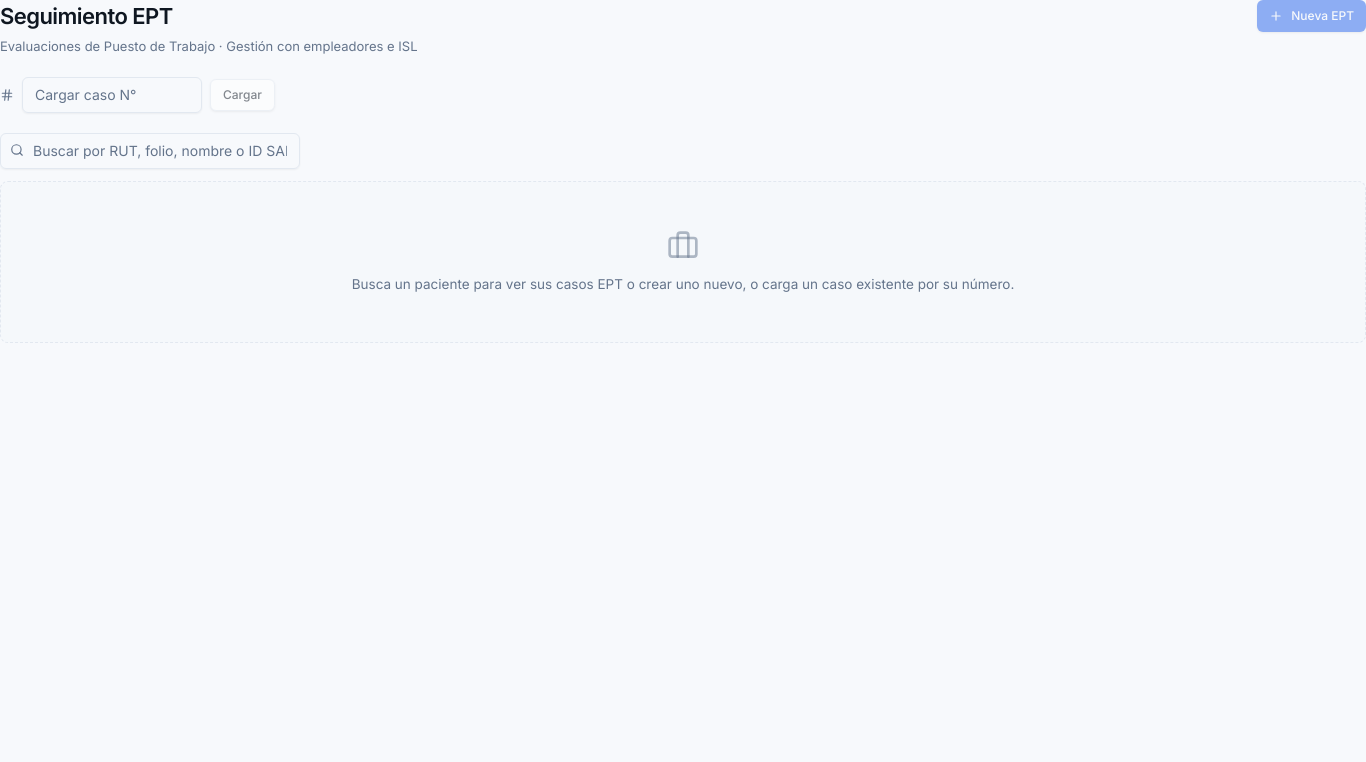
it: EptPage › Administrativo elimina un caso tras confirmar y el detalle se cierra
Type "55" into the number field with placeholder "Cargar caso N°" at (112, 94), box x1=22 y1=76 x2=202 y2=112
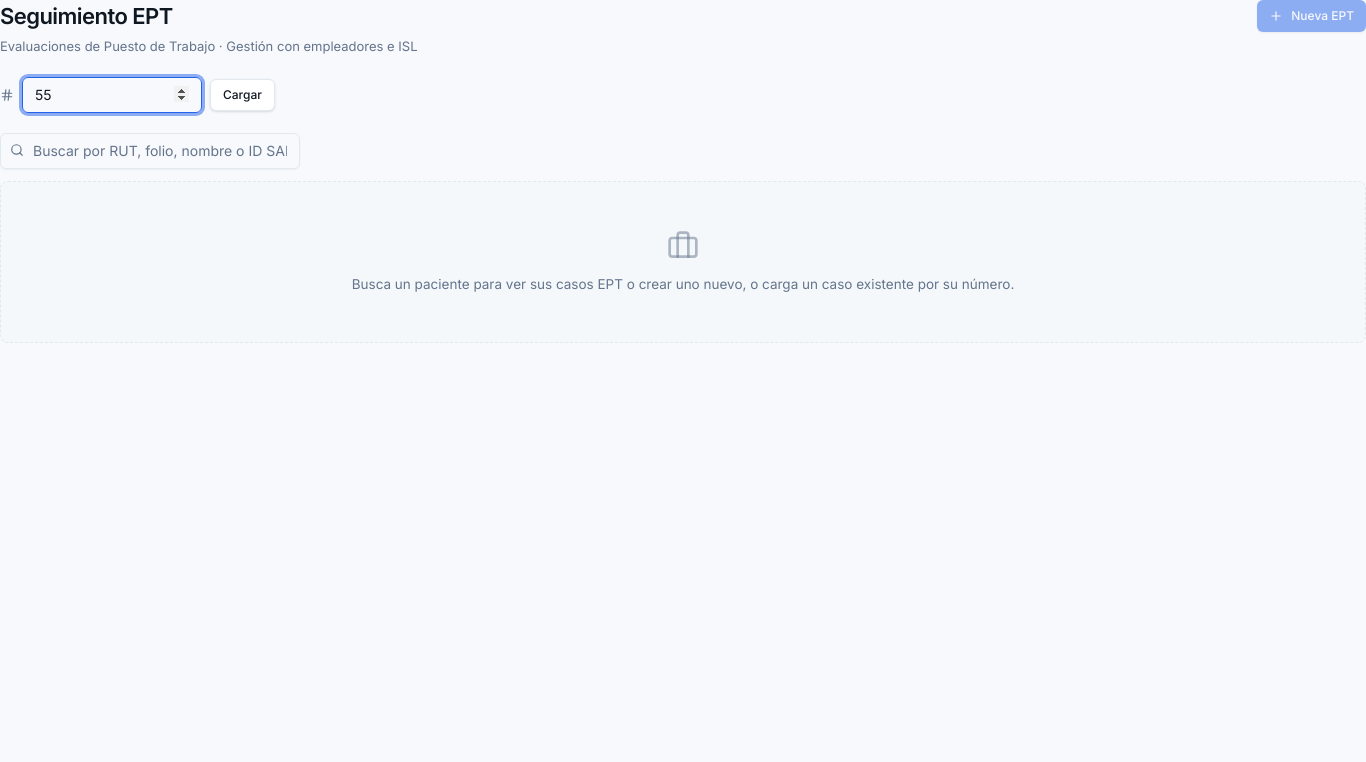
Click the button with test id "btn-cargar-caso" at (242, 94), box x1=210 y1=78 x2=275 y2=110
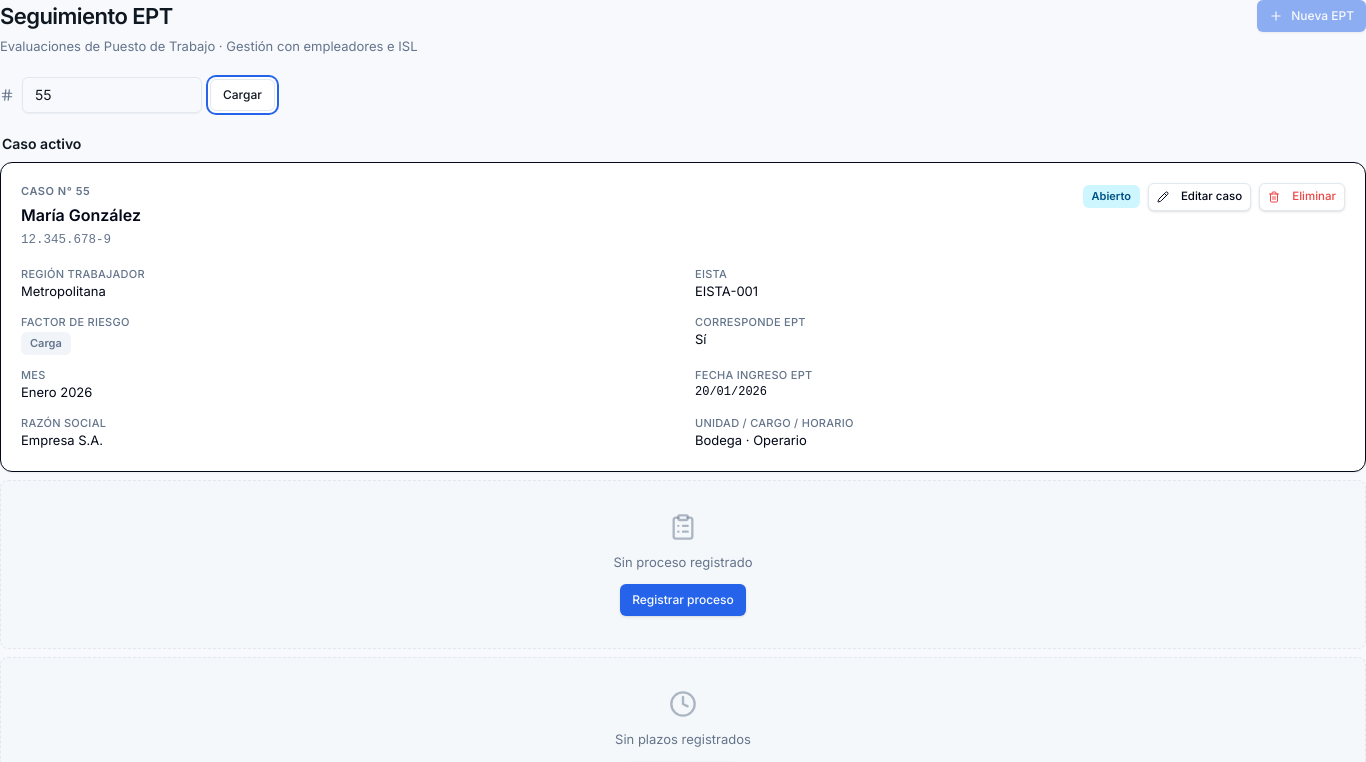
Click the button with test id "btn-eliminar-caso" at (1302, 196), box x1=1259 y1=182 x2=1345 y2=210
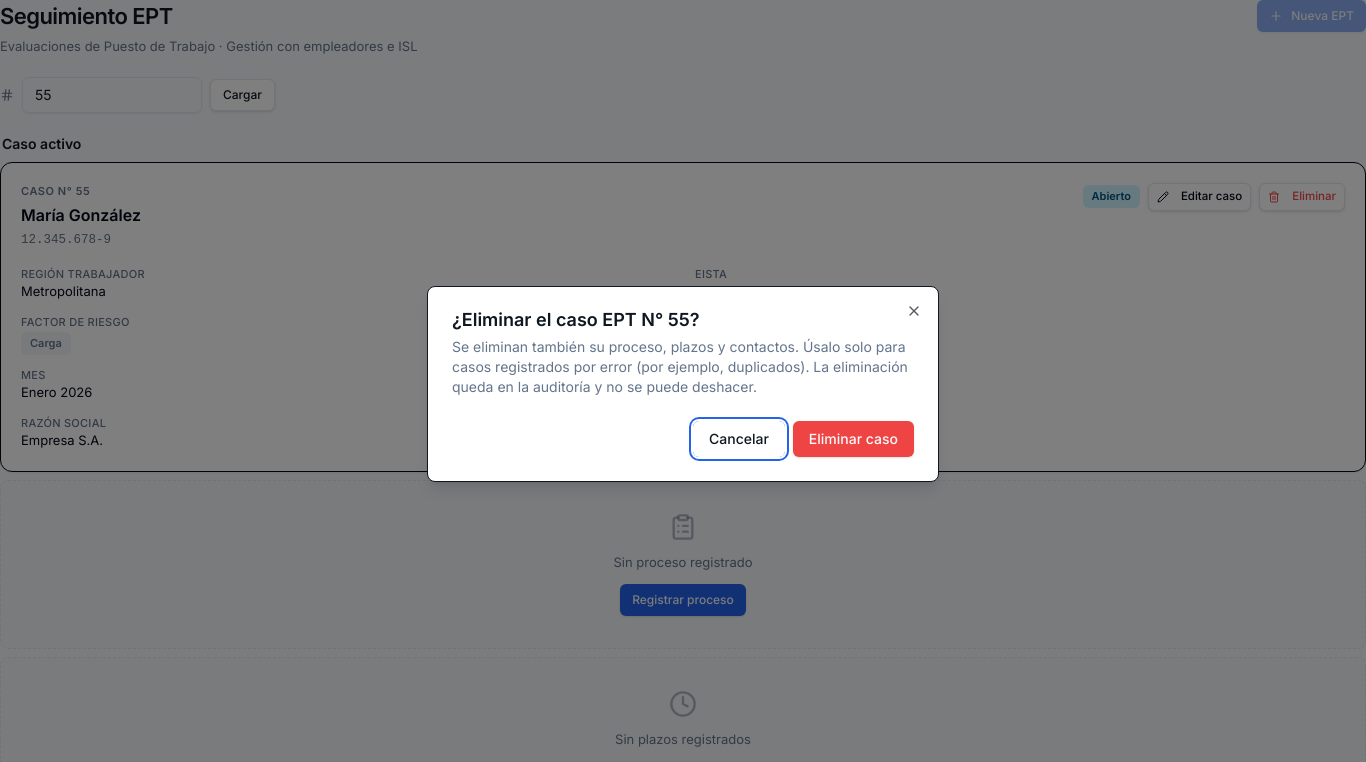
Click the button with test id "btn-confirmar-eliminar" at (853, 439), box x1=793 y1=421 x2=914 y2=457
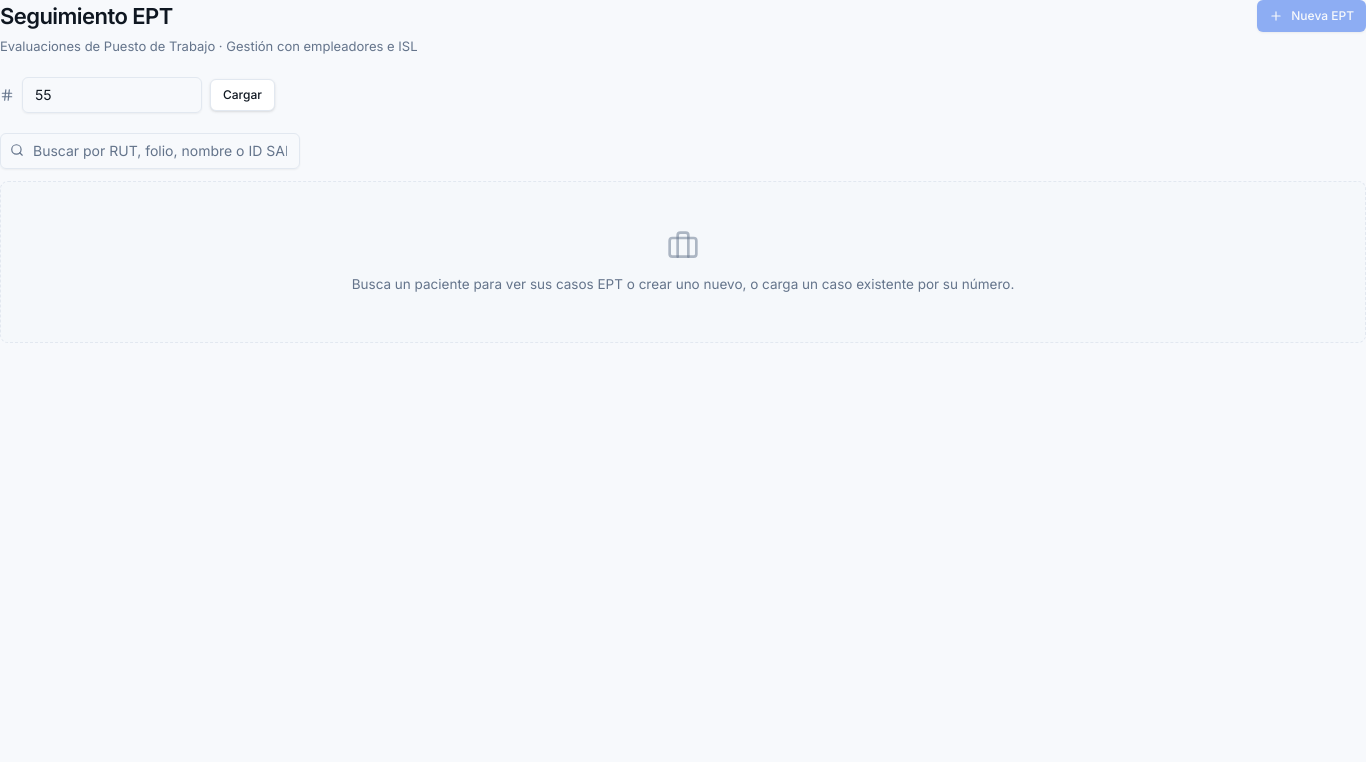
Expected: the text "Caso N° 55" is gone
